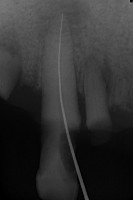Furcation Involvement: (35, 0, 91, 46), (0, 38, 23, 59), (101, 55, 113, 94)
